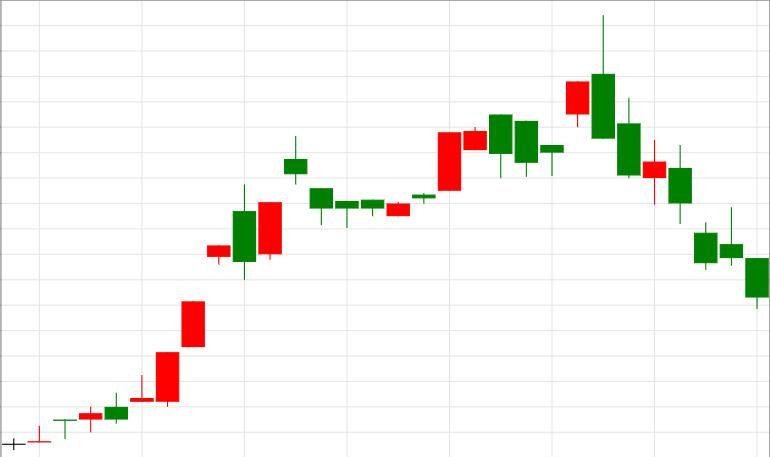bearish_engulfing_fall: (386, 16, 614, 217)
evening_star_fall: (79, 138, 333, 432)
